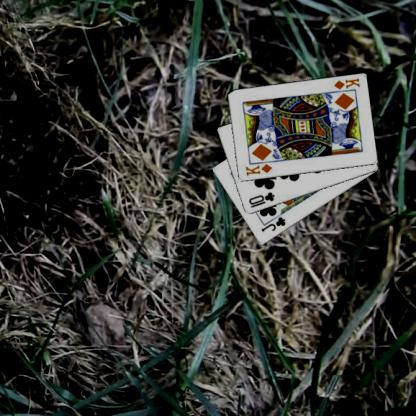10C: (246, 190, 276, 210)
JC: (258, 214, 287, 233)
KD: (243, 161, 273, 177), (331, 76, 361, 90)
